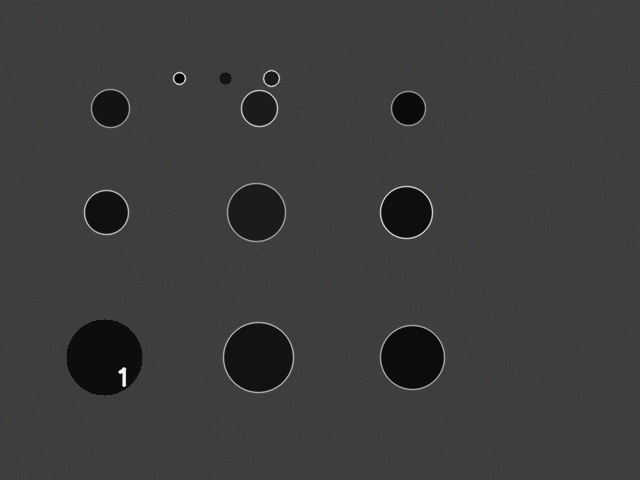hole: (66, 319, 142, 395), (223, 322, 293, 392), (380, 325, 444, 389), (227, 183, 285, 241), (380, 186, 432, 238), (84, 190, 128, 234), (91, 89, 129, 127), (241, 90, 277, 126), (391, 91, 425, 125), (263, 70, 279, 86), (173, 72, 185, 84), (219, 72, 231, 84)
